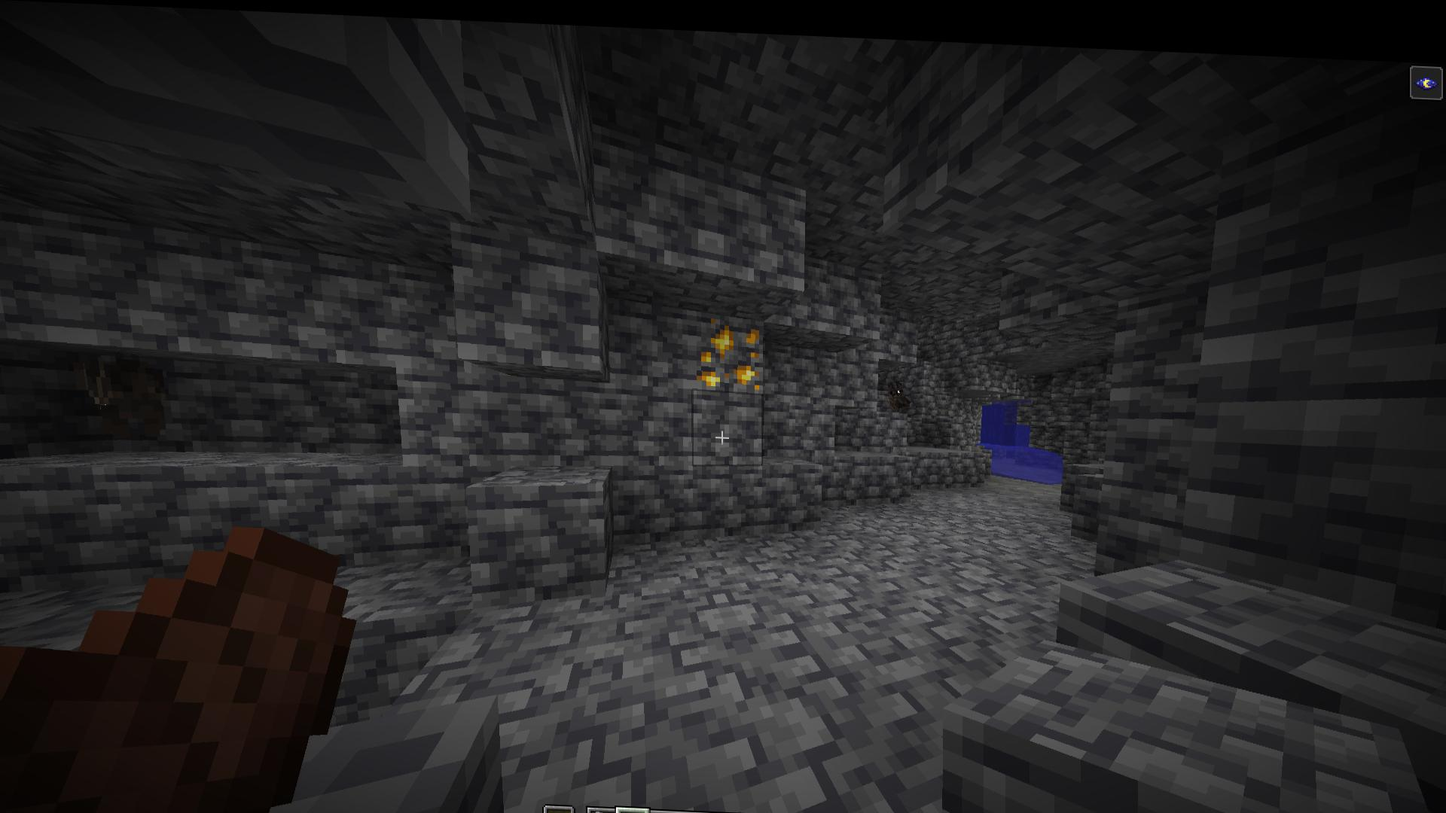gold ore: (693, 304, 763, 388)
